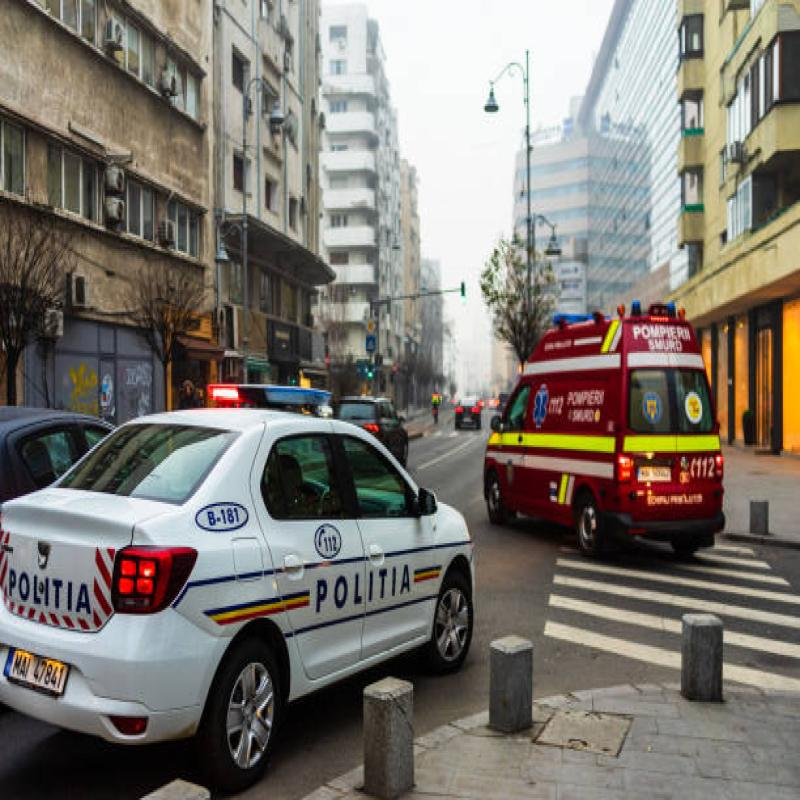AmbulanceSiren: (204, 355, 358, 431), (535, 292, 628, 338)
